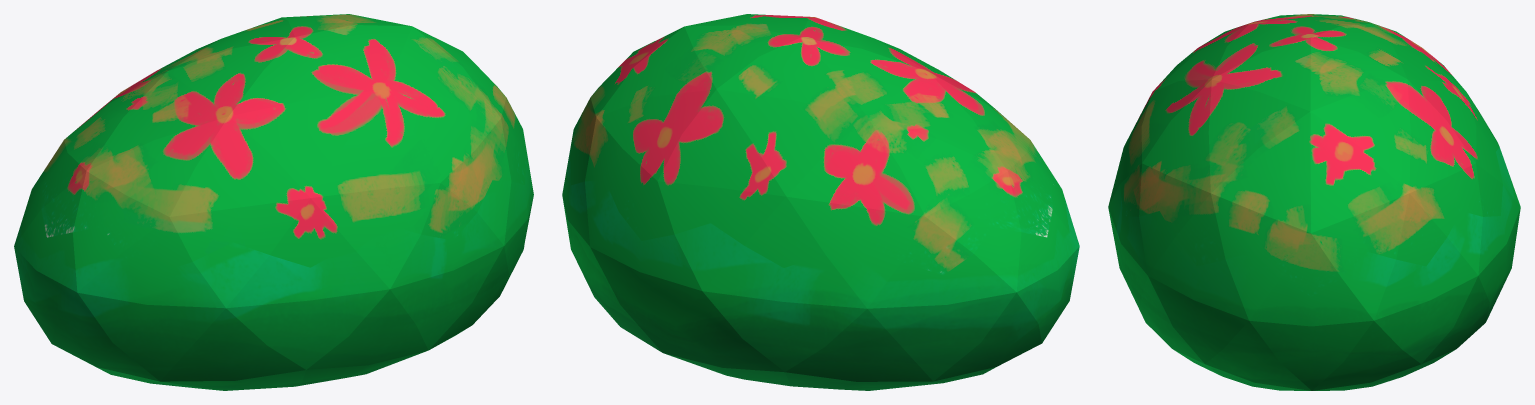
File: arbusto_MJClara.fbx
3 renders of one model, left to right at view 1: azimuth 30°, elevation 25°; view 2: azimuth 150°, elevation 25°; view 3: azimuth 270°, elevation 25°, orthographic.
Parts seen in each view (by area): view 1: arbusto_final; view 2: arbusto_final; view 3: arbusto_final.
Part boxes in pixels (x1,y1,x2,y2): arbusto_final: (14,14,533,390); arbusto_final: (562,14,1079,390); arbusto_final: (1108,14,1520,390).
Size of the model in its own units: 187 by 116 by 142.
